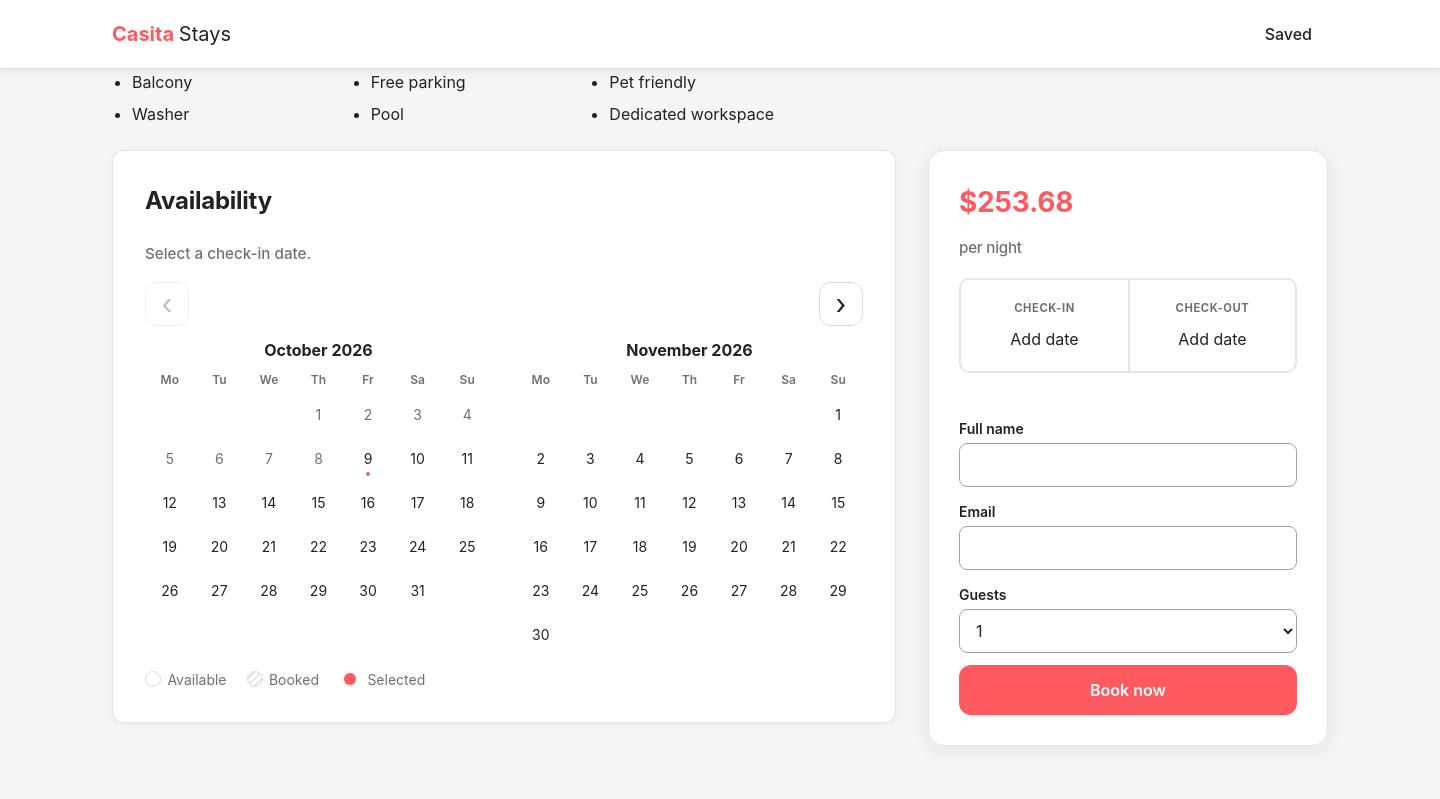
it: booking flow › shows a friendly message for a 404
(page scrolled)
Expected: the table named "October 2026" is shown, left=145, top=370, right=492, bottom=613
Click the button "12" below "October 2026" at coordinates (170, 503), box left=148, top=481, right=192, bottom=525
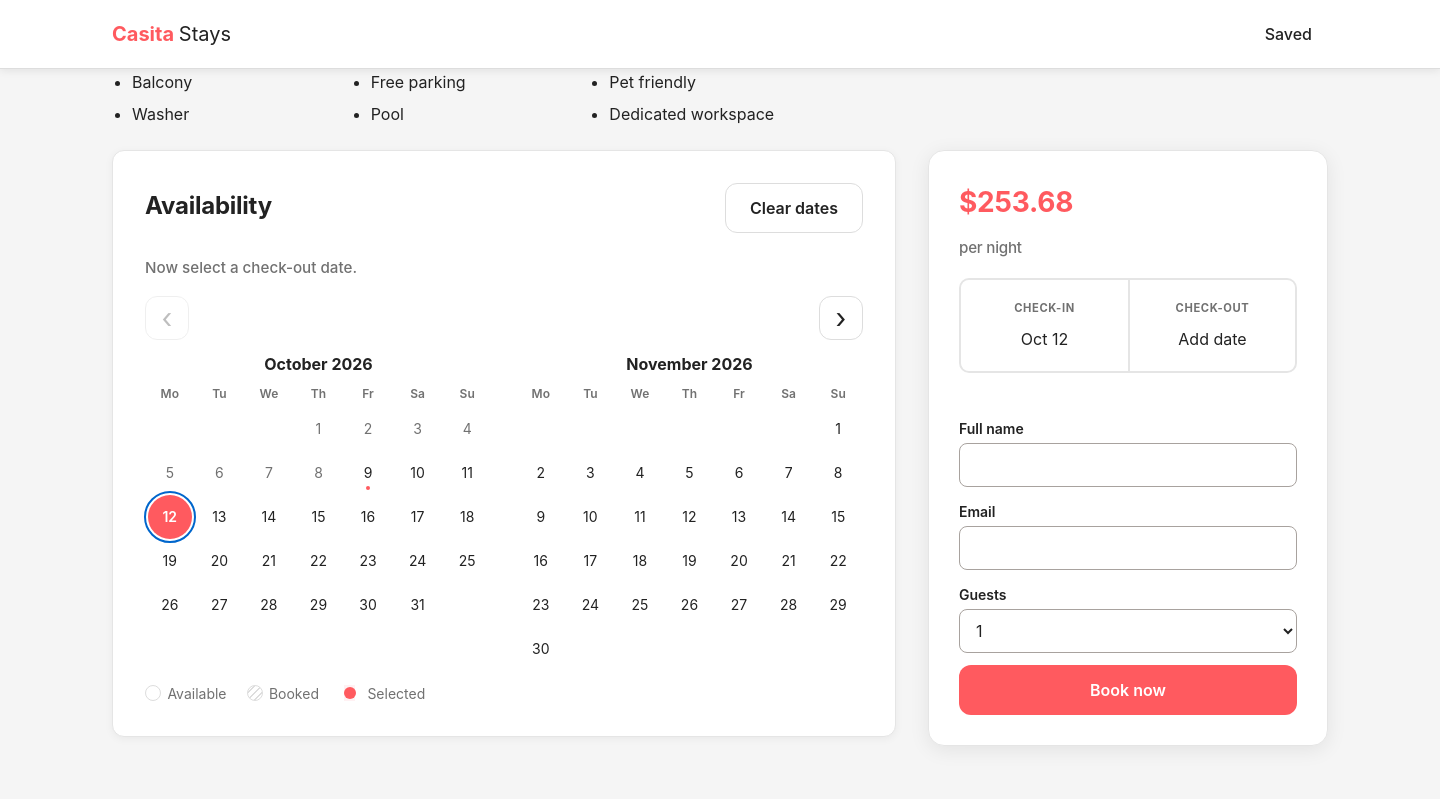
Click the button "14" below "October 2026" at coordinates (269, 517), box left=247, top=495, right=291, bottom=539
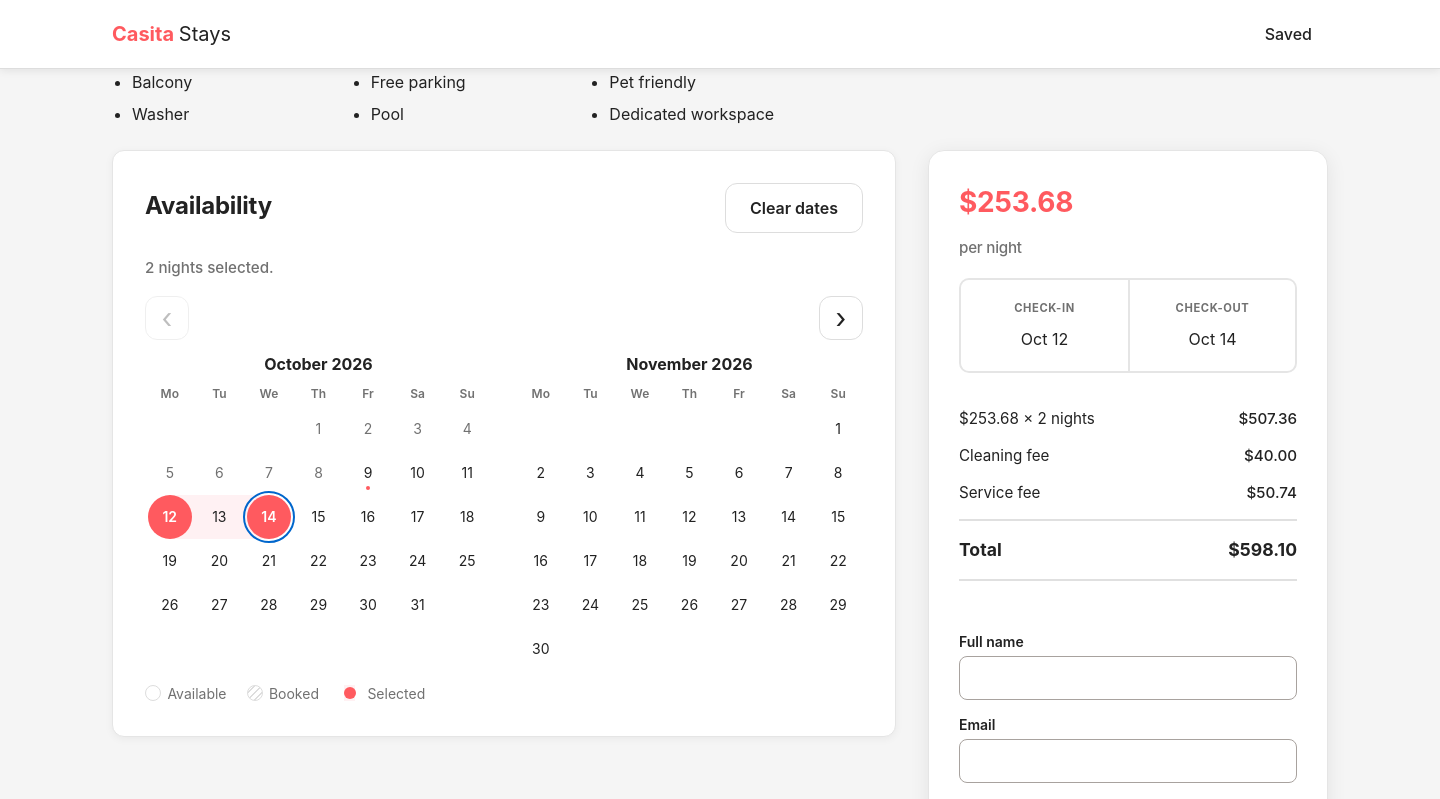
Type "Ana Silva" into the field labelled "Full name" at coordinates (1128, 678), box left=959, top=656, right=1297, bottom=700
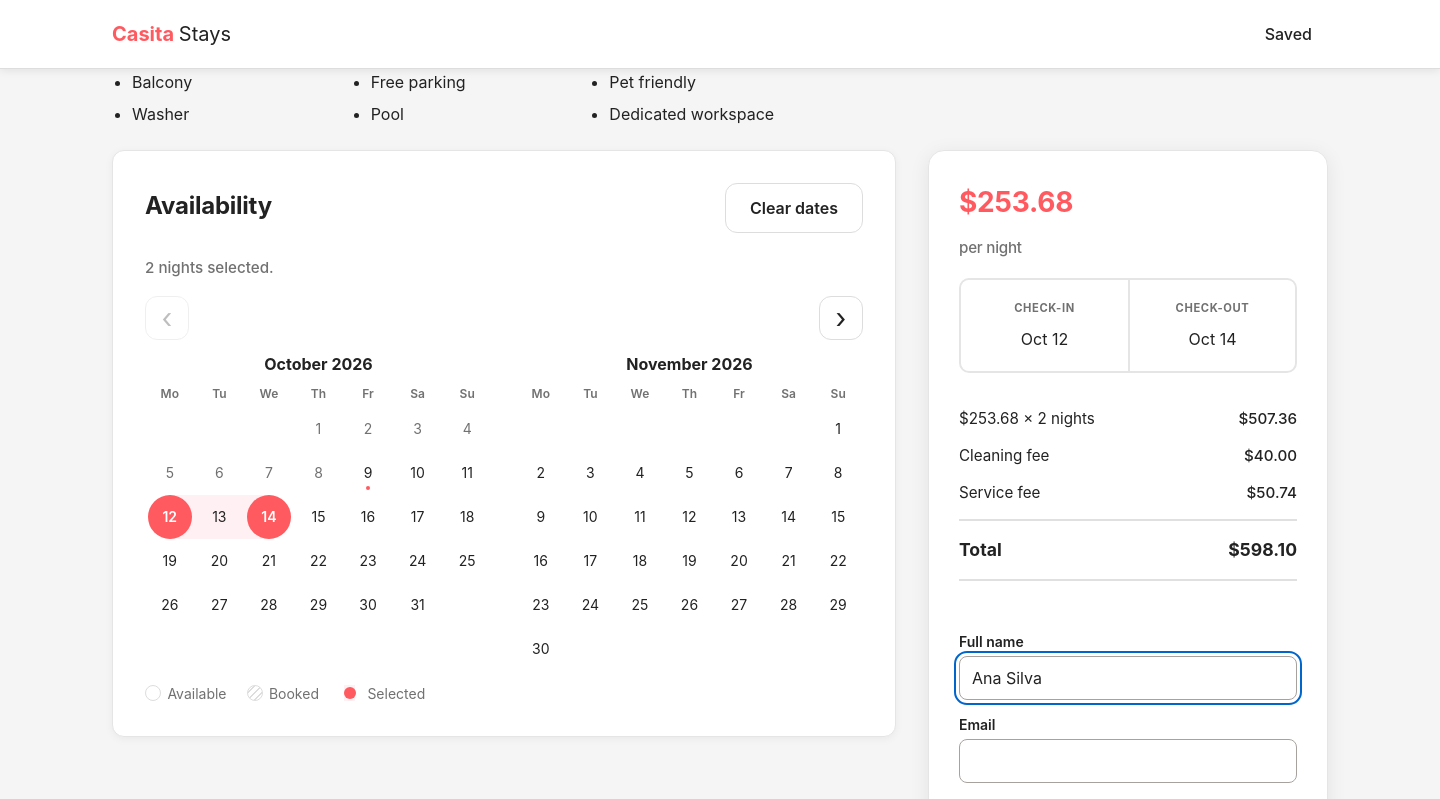
Type "ana@example.com" into the field labelled "Email" at coordinates (1128, 761), box left=959, top=739, right=1297, bottom=783
(page scrolled)
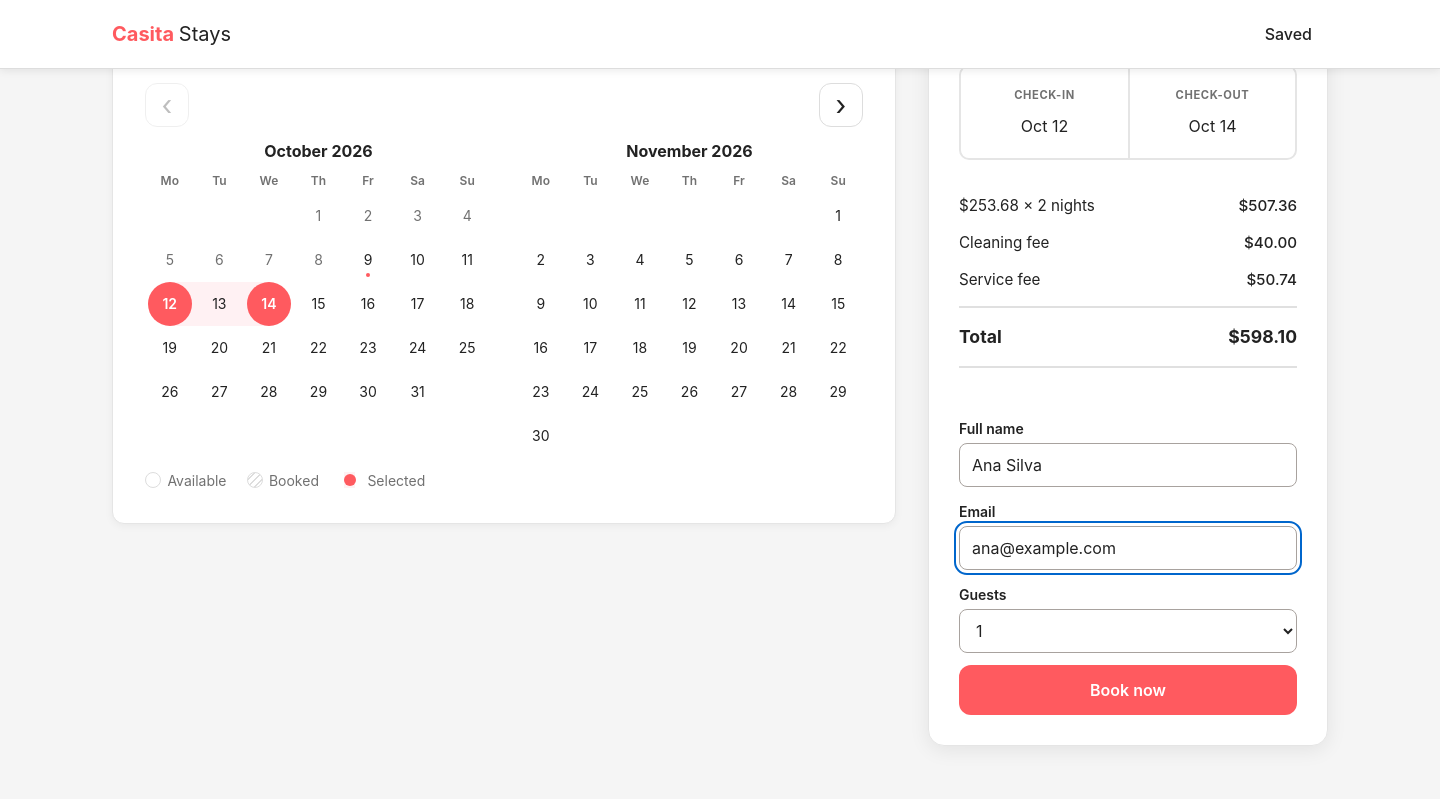
Click the button "Book now" at coordinates (1128, 690), box left=959, top=665, right=1297, bottom=715
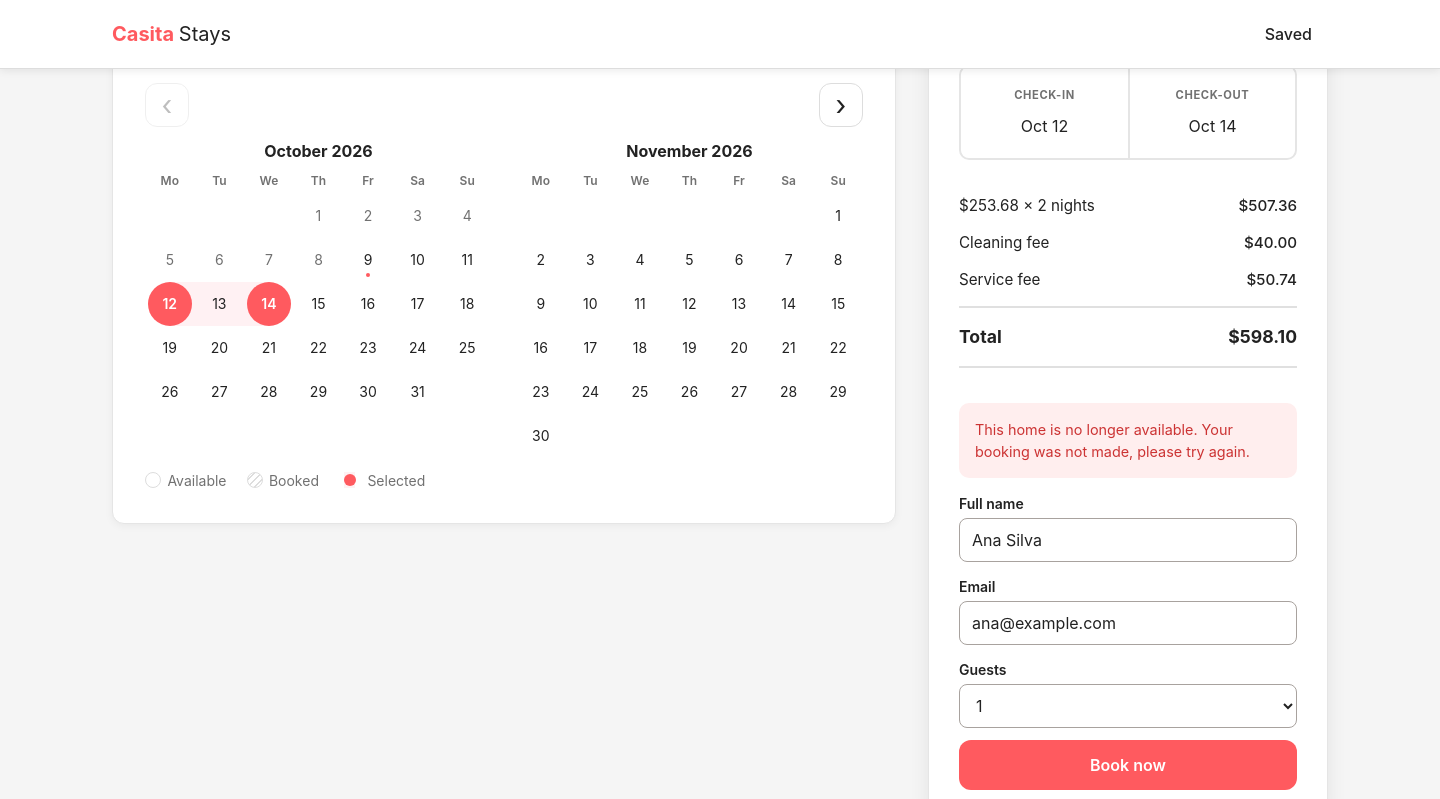
Expected: the text "This home is no longer available. Your booking was not made, please try again." is shown, left=959, top=403, right=1297, bottom=478
